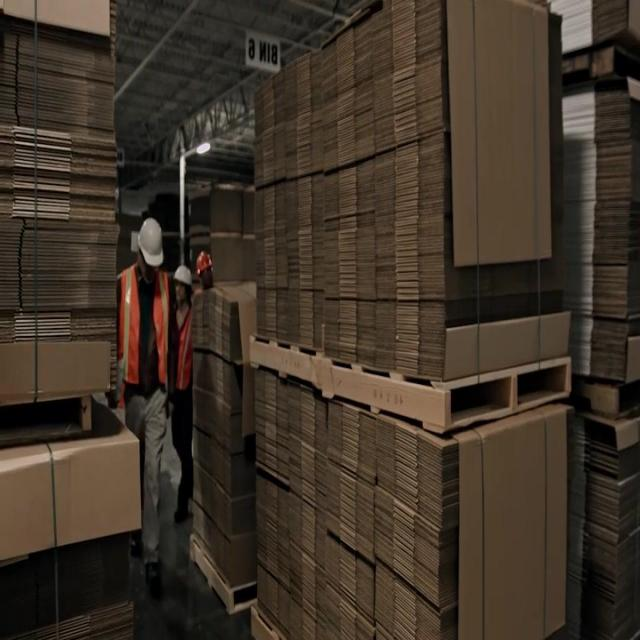Reflective-Jacket: (116, 266, 174, 412), (170, 306, 193, 415)
Safety-Helmet: (135, 211, 167, 273), (192, 244, 217, 282), (172, 260, 194, 292)
